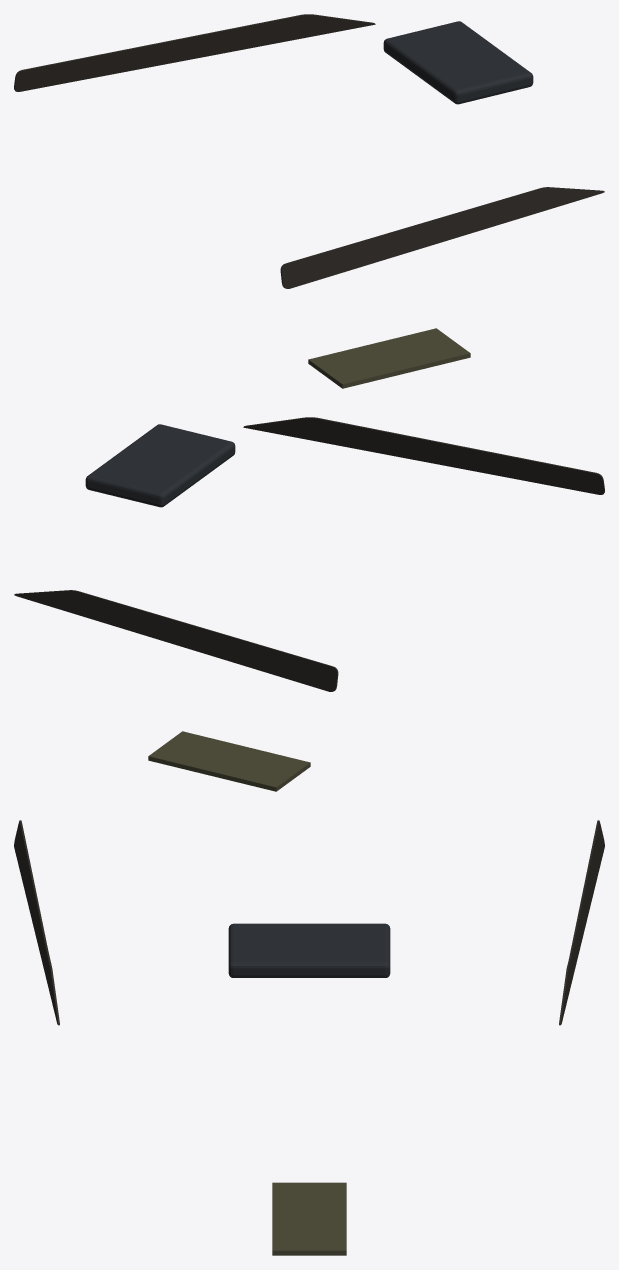
File: SM_J22H_Glass.fbx
3 renders of one model, top to bottom at view 1: azimuth 30°, elevation 25°; view 2: azimuth 150°, elevation 25°; view 3: azimuth 270°, elevation 25°, orthographic. The views are drawn at different scales.
Visible parts, largest first — view 1: SM_J22H_Glass; view 2: SM_J22H_Glass; view 3: SM_J22H_Glass.
Part boxes in pixels (box(x1,y1,x2,y2)): SM_J22H_Glass: box(14, 14, 604, 388); SM_J22H_Glass: box(14, 417, 604, 791); SM_J22H_Glass: box(14, 820, 604, 1255).
Size of the model in its own units: 1.9 by 1.42 by 1.12.
